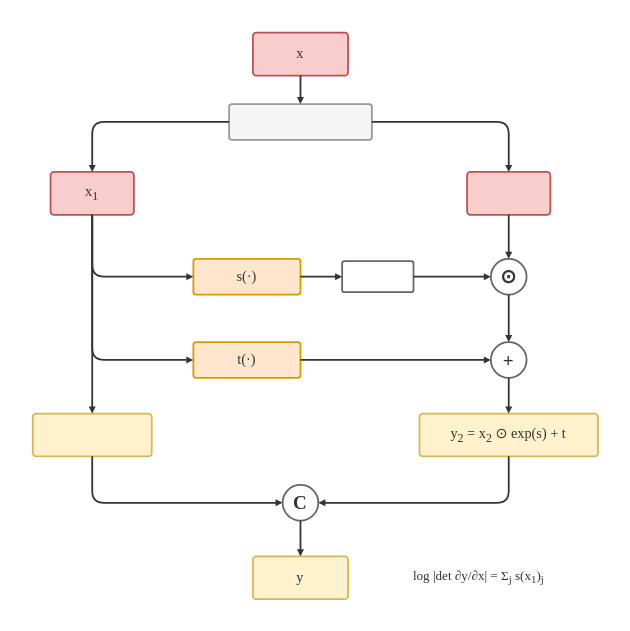
The diagram is 630 pixels wide and 631 high, and some of its shapes have lost their labels. The box of each missing label's shape, as (x1, y1, x2, y2) in pixels:
exp: (341, 260, 414, 293)
Split: (228, 103, 372, 140)
x 2: (466, 171, 551, 215)
y 1 = x 1: (31, 412, 152, 457)
